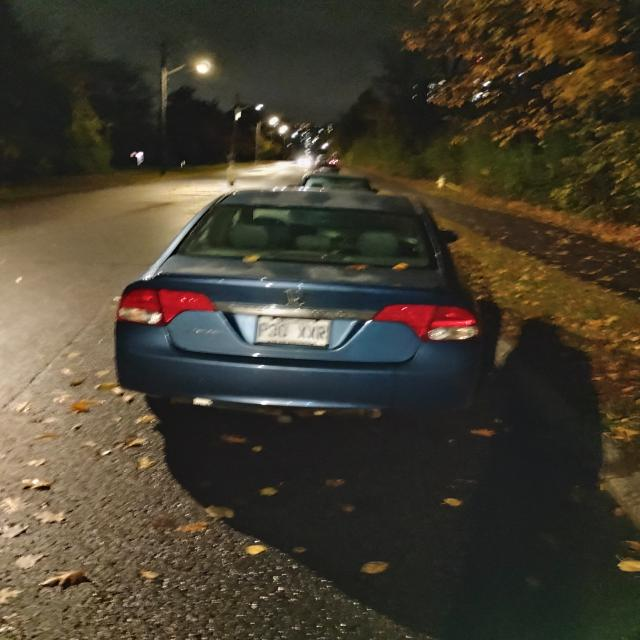plaque: (256, 316, 330, 346)
